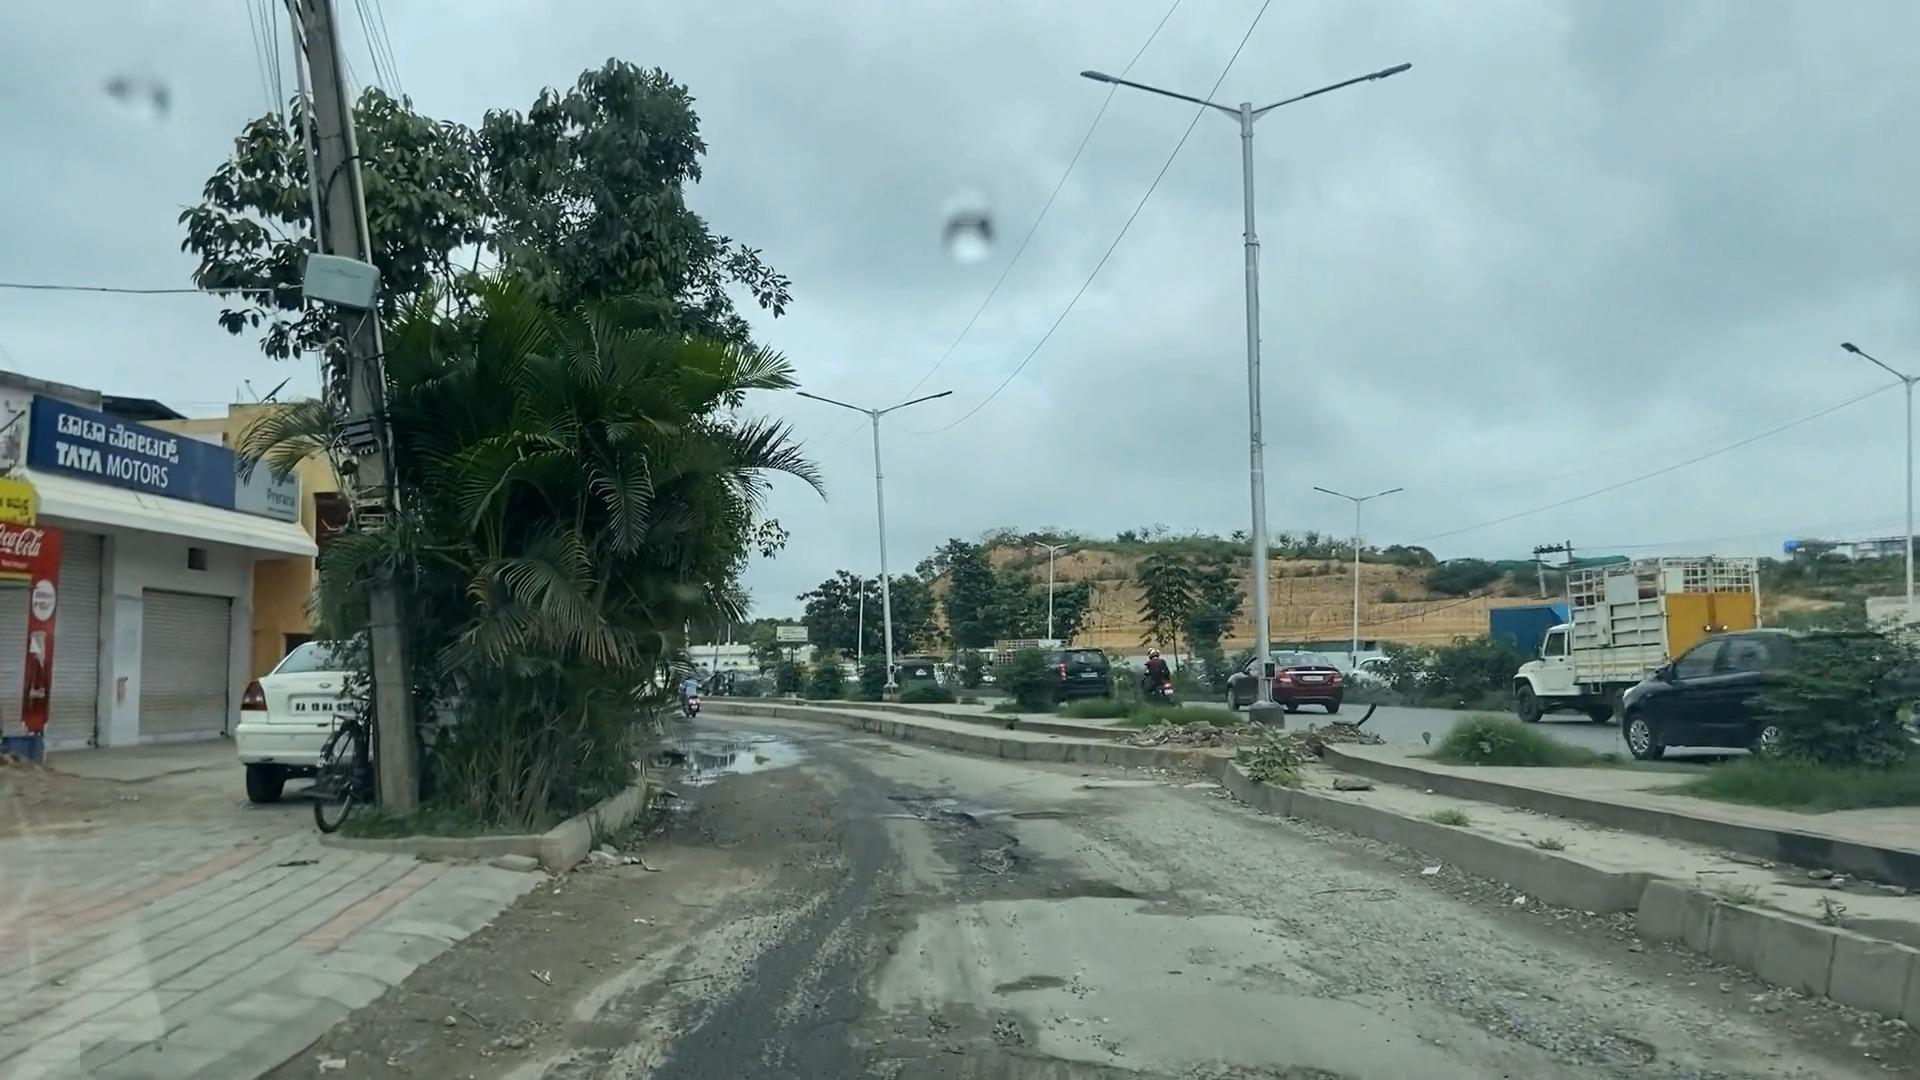RoadDamages: (884, 757, 1159, 926), (829, 973, 1147, 1080), (1460, 960, 1726, 1080)
